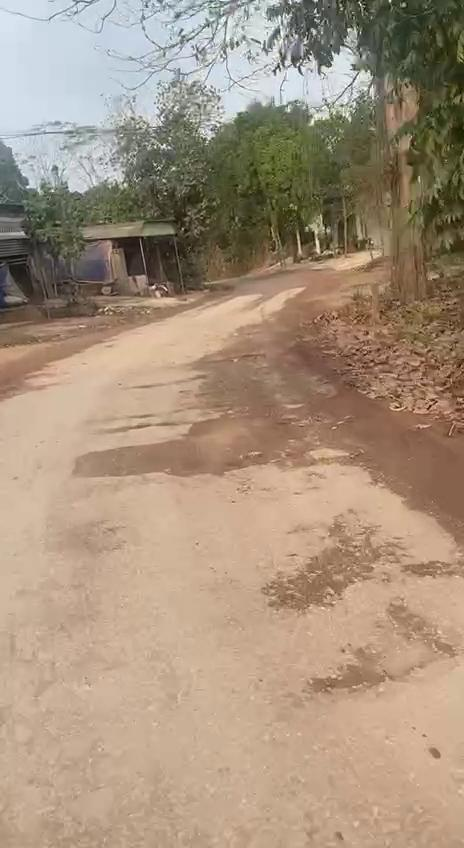pothole: (66, 399, 298, 490), (306, 595, 460, 698), (265, 503, 388, 620)
